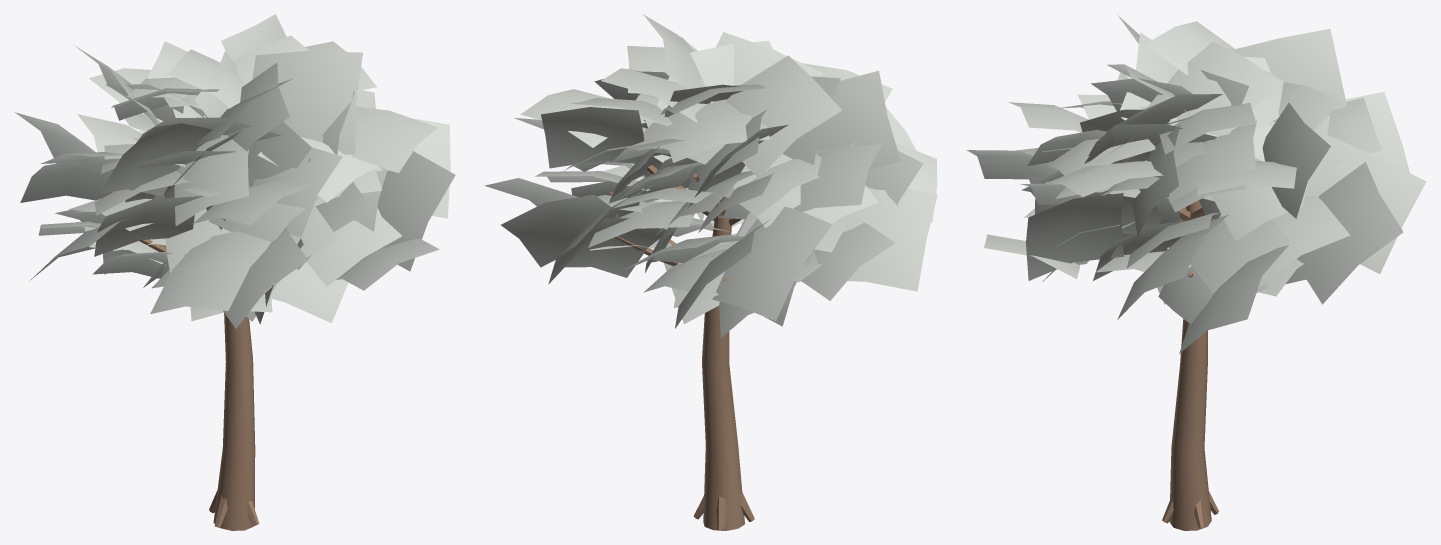
Rendered from OW_AydosPineTree.fbx.
3 renders of one model, left to right at view 1: azimuth 30°, elevation 25°; view 2: azimuth 150°, elevation 25°; view 3: azimuth 270°, elevation 25°, orthographic.
Visible parts, largest first — view 1: OW_AydosPineTree; view 2: OW_AydosPineTree; view 3: OW_AydosPineTree.
Boxes of the visible parts, x1,y1,x2,y2 form: OW_AydosPineTree: (14, 14, 455, 530); OW_AydosPineTree: (484, 14, 937, 530); OW_AydosPineTree: (967, 14, 1426, 530).
Size of the model in its own units: 7.17 by 7.7 by 6.94.
